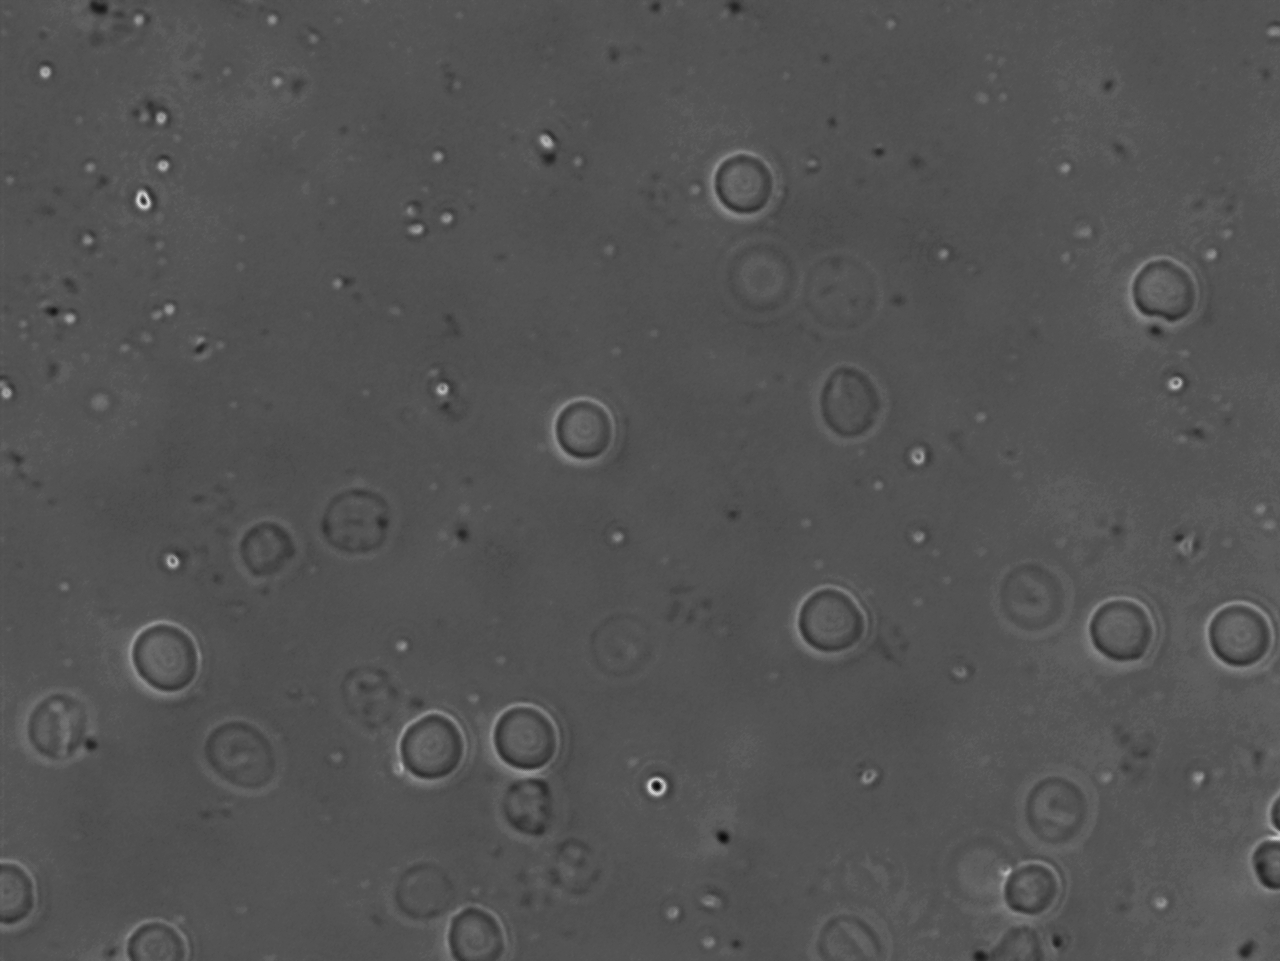depth:0: (383, 699, 490, 793), (119, 608, 218, 709), (694, 136, 795, 230), (1188, 576, 1280, 679), (542, 383, 638, 476), (1121, 241, 1213, 338), (1082, 586, 1177, 677), (787, 578, 882, 668), (472, 689, 567, 778), (992, 838, 1083, 922), (431, 896, 520, 961), (117, 916, 201, 961)
